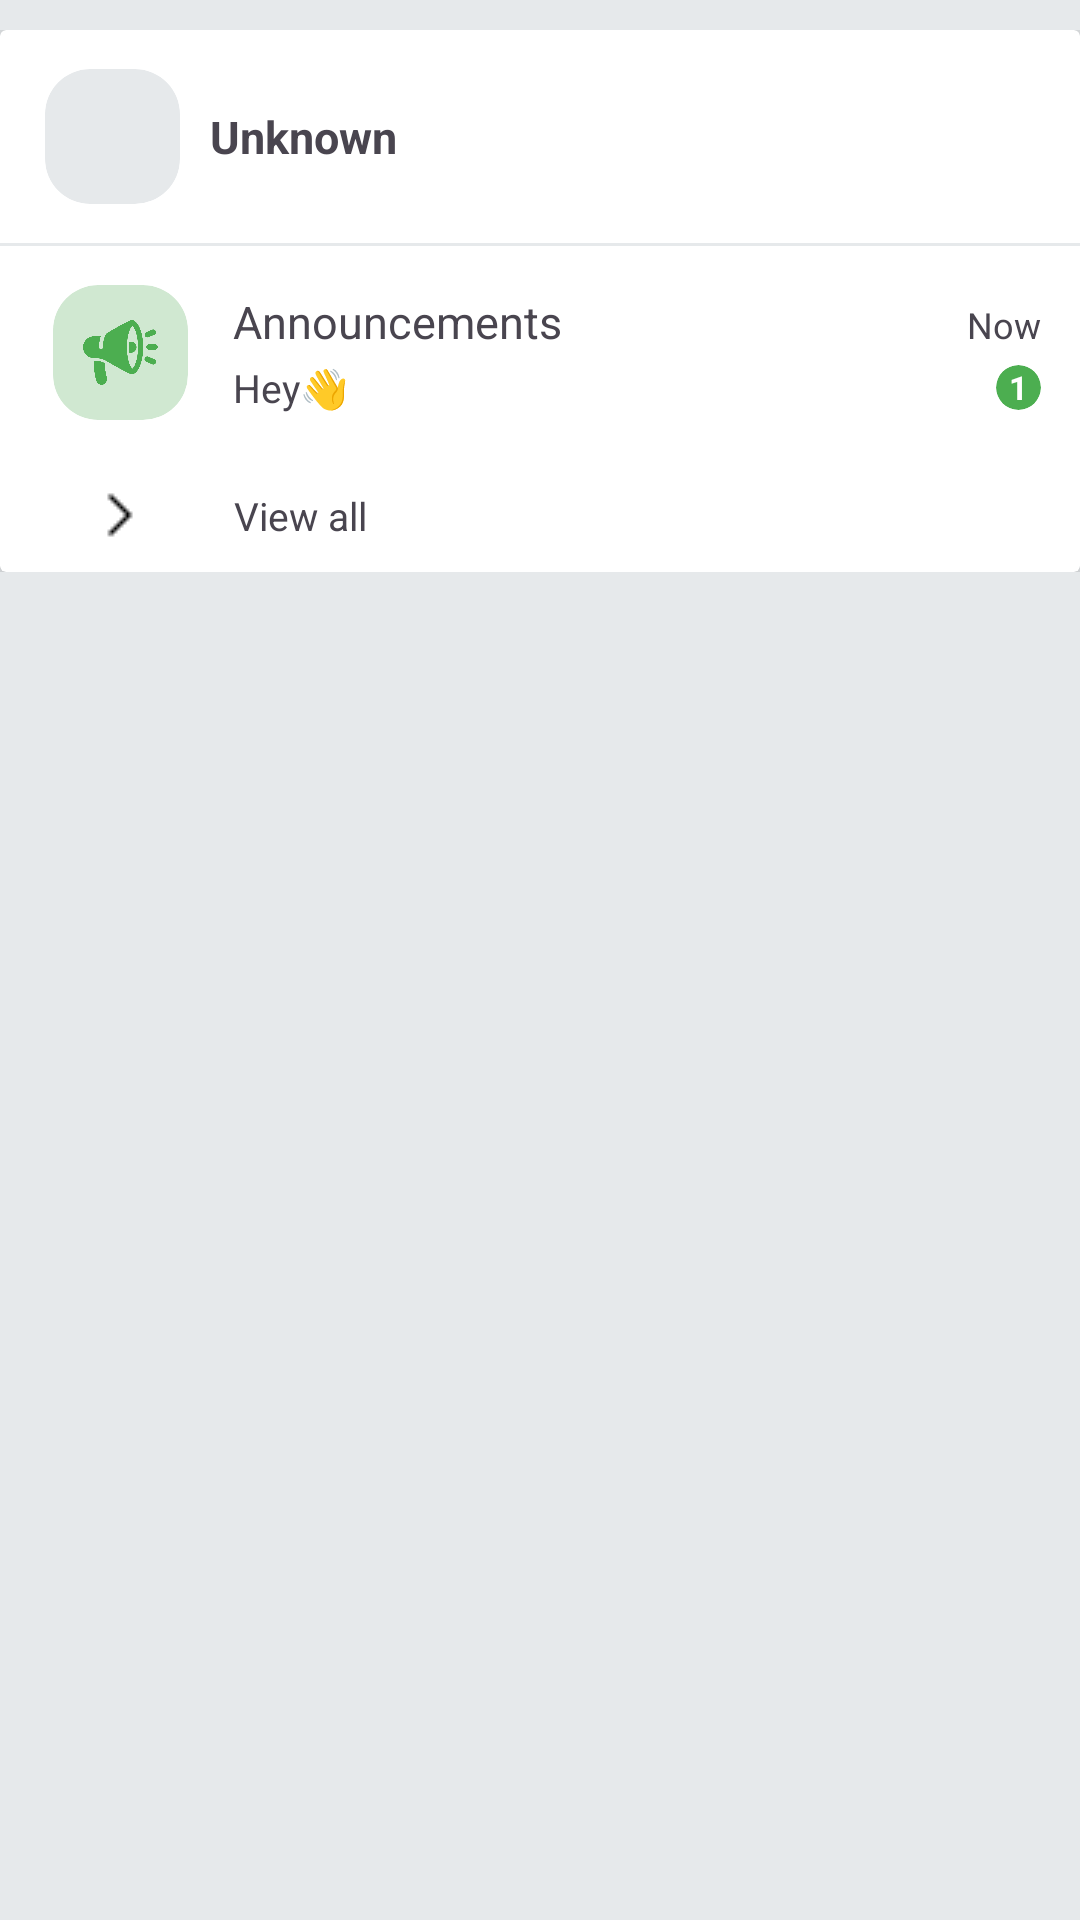

Screen size 1080x1920. Icon name, then its box in pixels as (x1,y1,x2,y2):
promote: (83,320,158,385)
